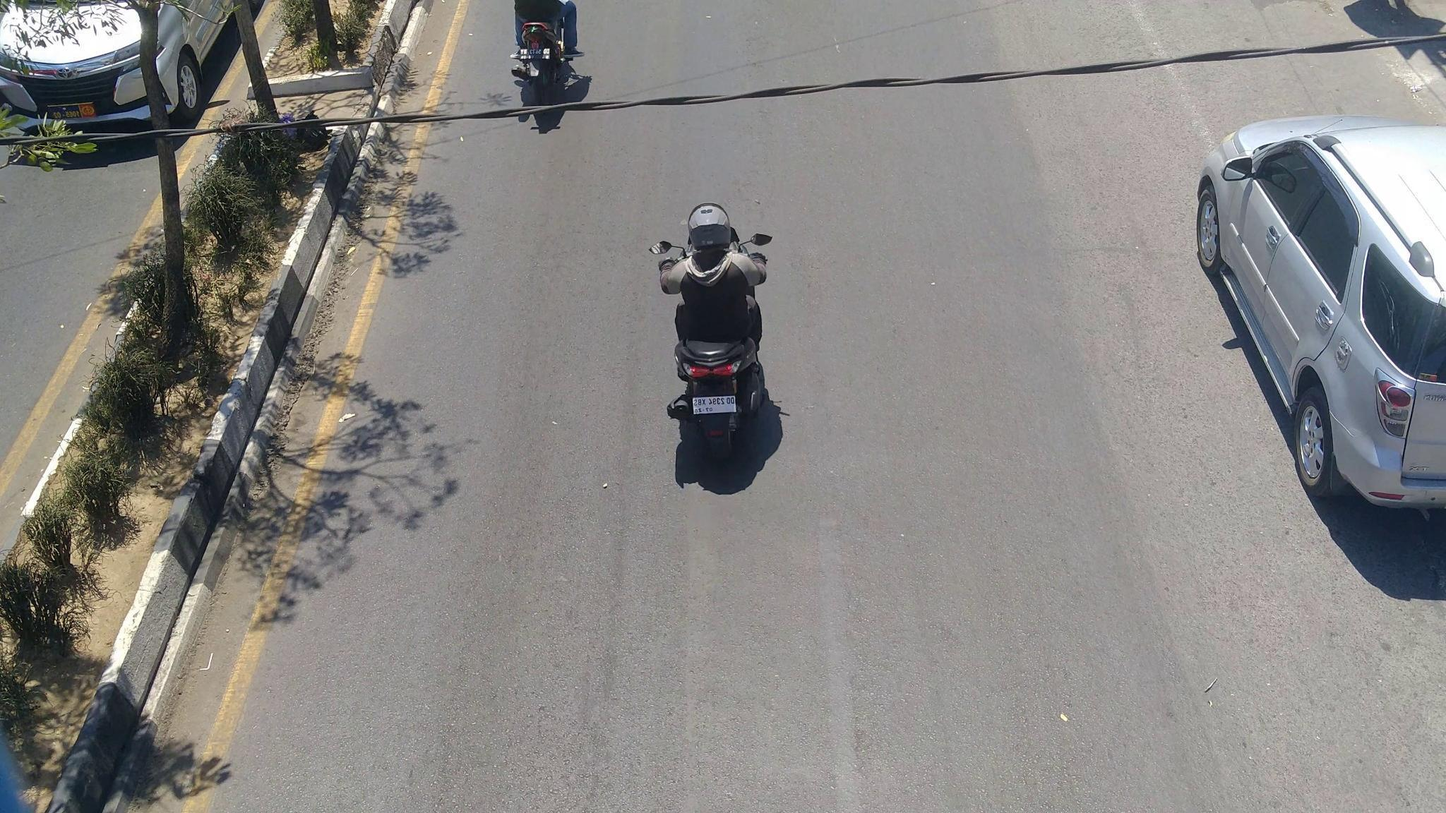Helmet: (679, 196, 739, 252)
bike: (647, 229, 776, 464), (509, 0, 576, 108)
number-plate: (688, 392, 739, 416), (519, 46, 553, 60)
rider: (656, 200, 769, 353)
